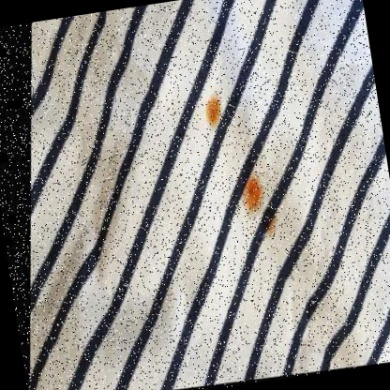kimchi: (238, 176, 271, 217), (201, 92, 223, 128), (265, 222, 284, 238)
